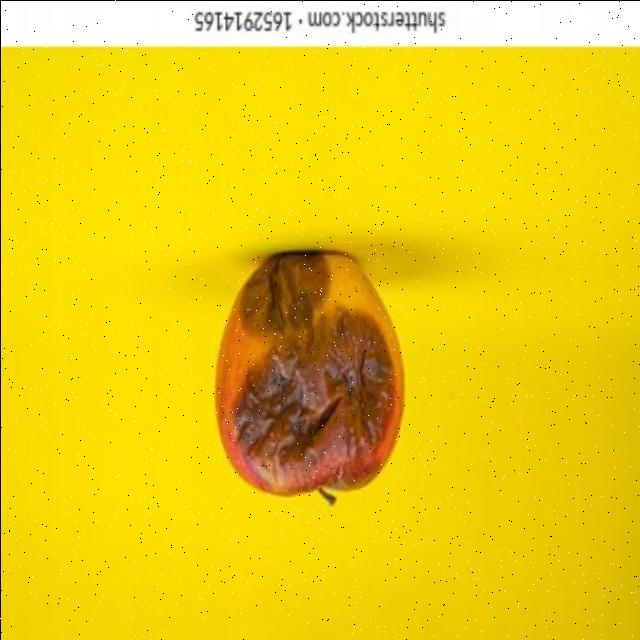ROT: (184, 220, 421, 532)
